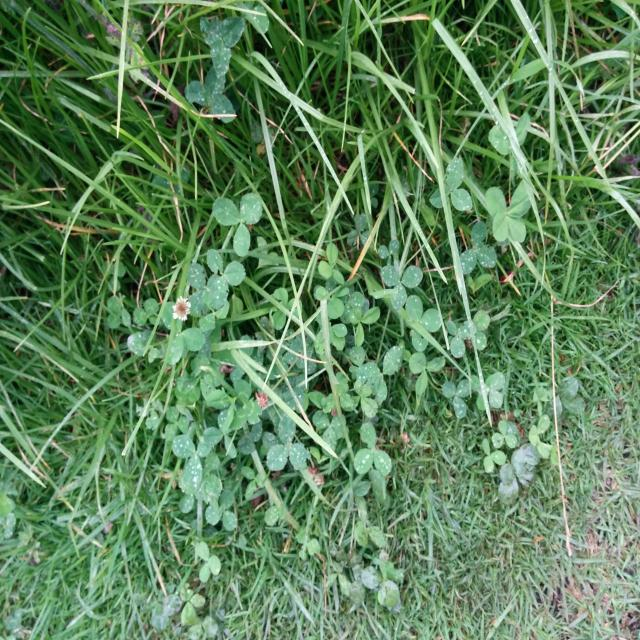Four Leaf Clover: (485, 184, 531, 243)
